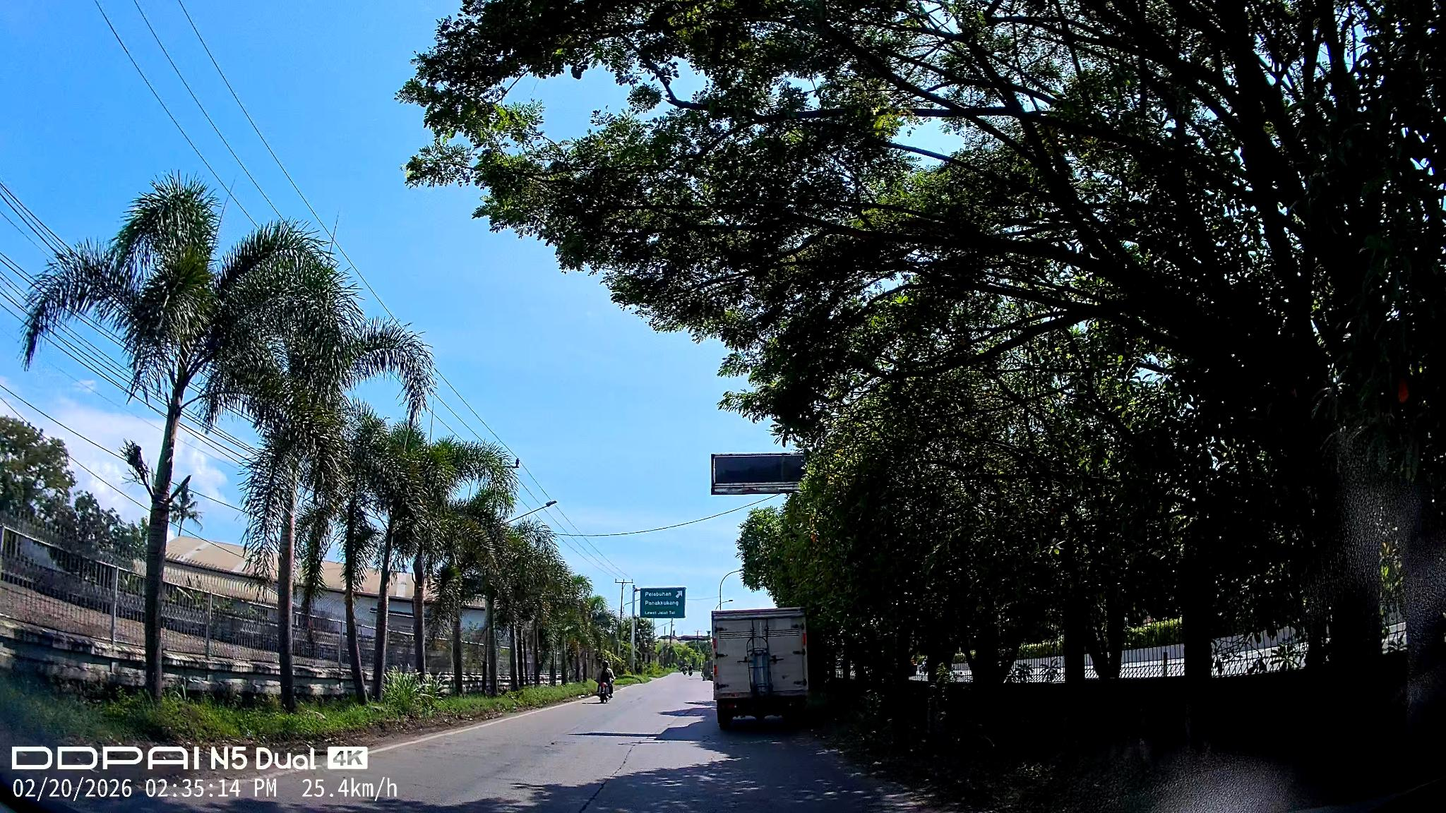rambu_teks: (640, 587, 686, 618)
